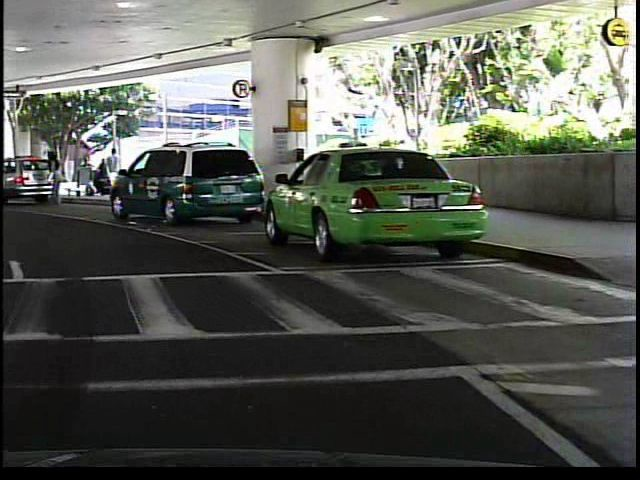person: (44, 151, 63, 207)
